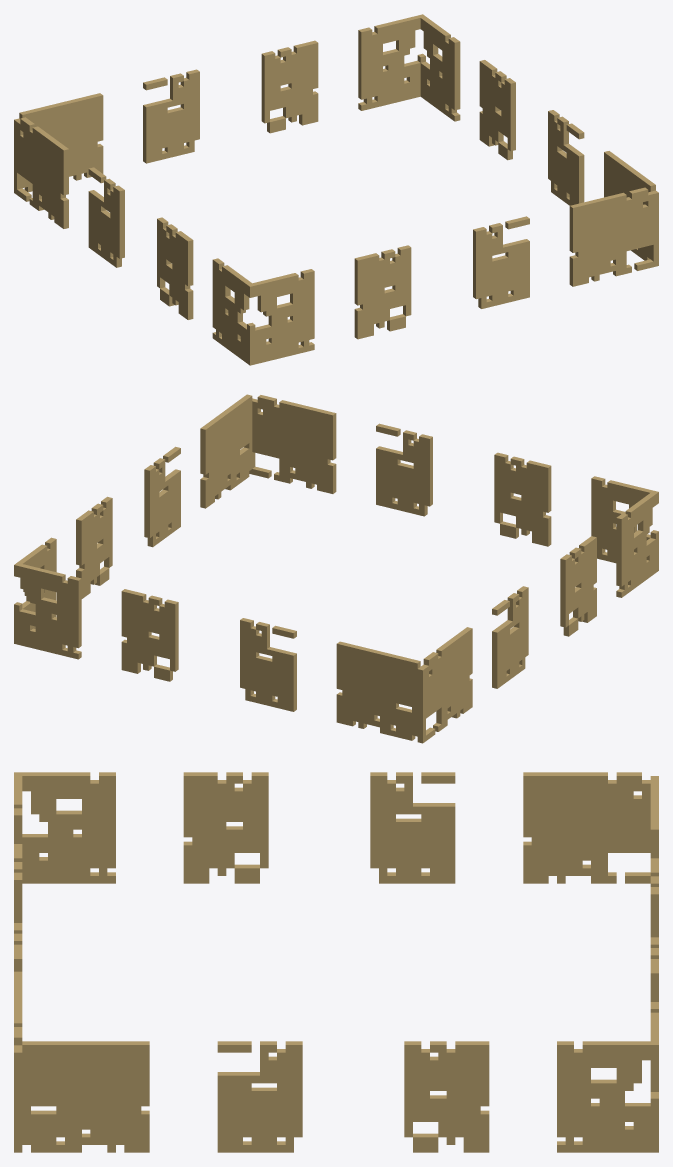
File: desertbuilding-2.obj
3 renders of one model, top to bottom at view 1: azimuth 30°, elevation 25°; view 2: azimuth 150°, elevation 25°; view 3: azimuth 270°, elevation 25°, orthographic. The views are drawn at different scales.
Size of the model in its own units: 7.6 by 1.4 by 7.6.
Materials: 1 (1 with a texture image).
